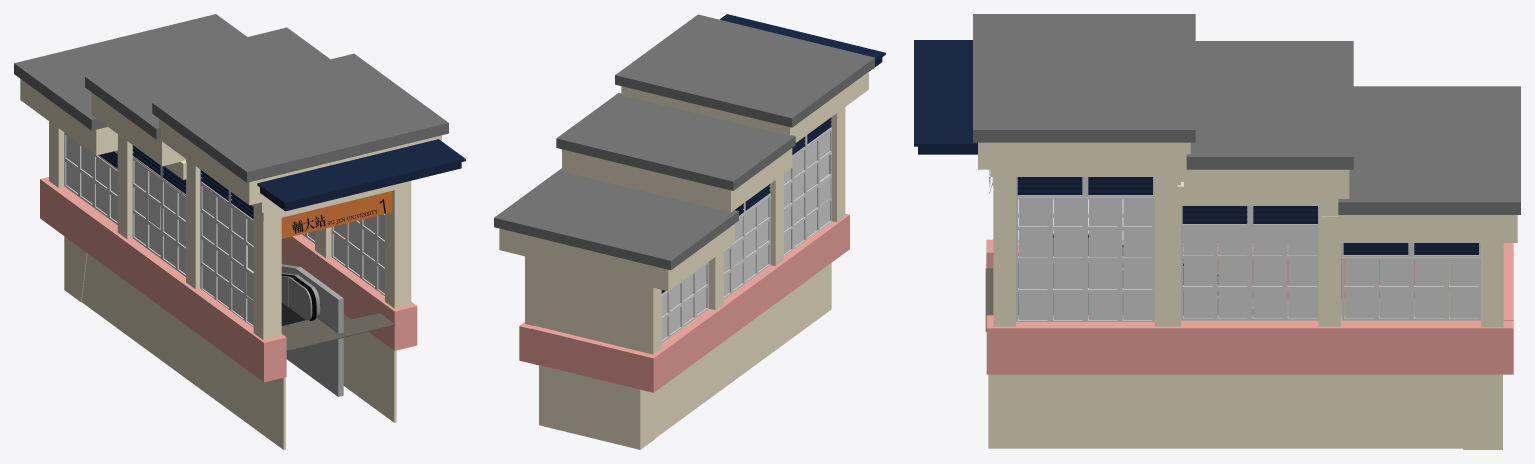
File: FJU Station With Stair.fbx
3 views of the same model, side by side, from view 1: azimuth 30°, elevation 25°; view 2: azimuth 150°, elevation 25°; view 3: azimuth 270°, elevation 25° (orthographic). The views are drawn at different scales.
Visible parts, largest first — view 1: Cube.021, Cube.003, Cube.037, Cube.032, Cube.004, 立方體.001, Cube.014, Cube.036, Cube.022, Cube.016, Cube.025, Cube.018 (+14 smaller); view 2: Cube.021, Cube.004, Cube.032, Cube.003, Cube.037, Cube.006, Cube.035, Cube.030, Cube.005, Cube.007, Cube.018, Cube.001 (+7 smaller); view 3: Cube.036, Cube.021, Cube.014, Cube.004, Cube.032, 立方體.001, Cube.018, Cube.005, Cube.030, Cube.012, Cube.035, Cube.016 (+42 smaller).
Boxes of the visible parts, x1,y1,x2,y2 form: Cube.021: (152, 53, 448, 182); Cube.003: (40, 178, 286, 382); Cube.037: (81, 253, 285, 449); Cube.032: (85, 27, 329, 139); Cube.004: (14, 14, 246, 130); 立方體.001: (257, 139, 465, 205); Cube.014: (281, 234, 417, 350); Cube.036: (343, 314, 396, 422); Cube.022: (281, 264, 343, 396); Cube.016: (385, 181, 411, 308); Cube.025: (253, 207, 280, 339); Cube.018: (159, 119, 441, 205); Cube.021: (615, 14, 874, 127); Cube.004: (494, 168, 738, 270); Cube.032: (556, 93, 795, 190); Cube.003: (634, 213, 849, 392); Cube.037: (655, 263, 831, 437); Cube.006: (539, 260, 652, 353); Cube.035: (539, 365, 660, 449); Cube.030: (562, 148, 792, 212); Cube.005: (499, 224, 734, 290); Cube.007: (531, 326, 663, 391); Cube.018: (621, 72, 868, 142); Cube.001: (638, 284, 661, 354); Cube.036: (988, 374, 1462, 448); Cube.021: (973, 14, 1195, 142); Cube.014: (986, 315, 1513, 374); Cube.004: (1338, 86, 1520, 214); Cube.032: (1186, 41, 1353, 169); 立方體.001: (914, 40, 977, 146); Cube.018: (978, 142, 1190, 169); Cube.005: (1338, 215, 1517, 242); Cube.030: (1184, 169, 1349, 198); Cube.012: (1154, 177, 1180, 326); Cube.035: (1447, 259, 1502, 449); Cube.016: (993, 177, 1015, 326).
Bounding box in the file's own units: 6813 × 9454 × 15067.
